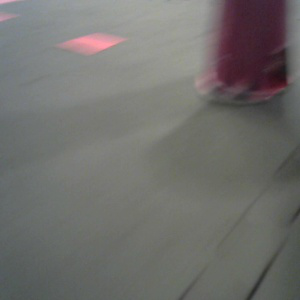right: (195, 1, 295, 106)
